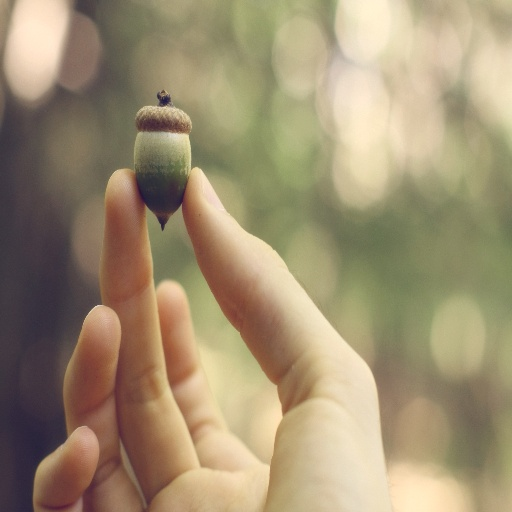hand: (32, 163, 389, 511)
